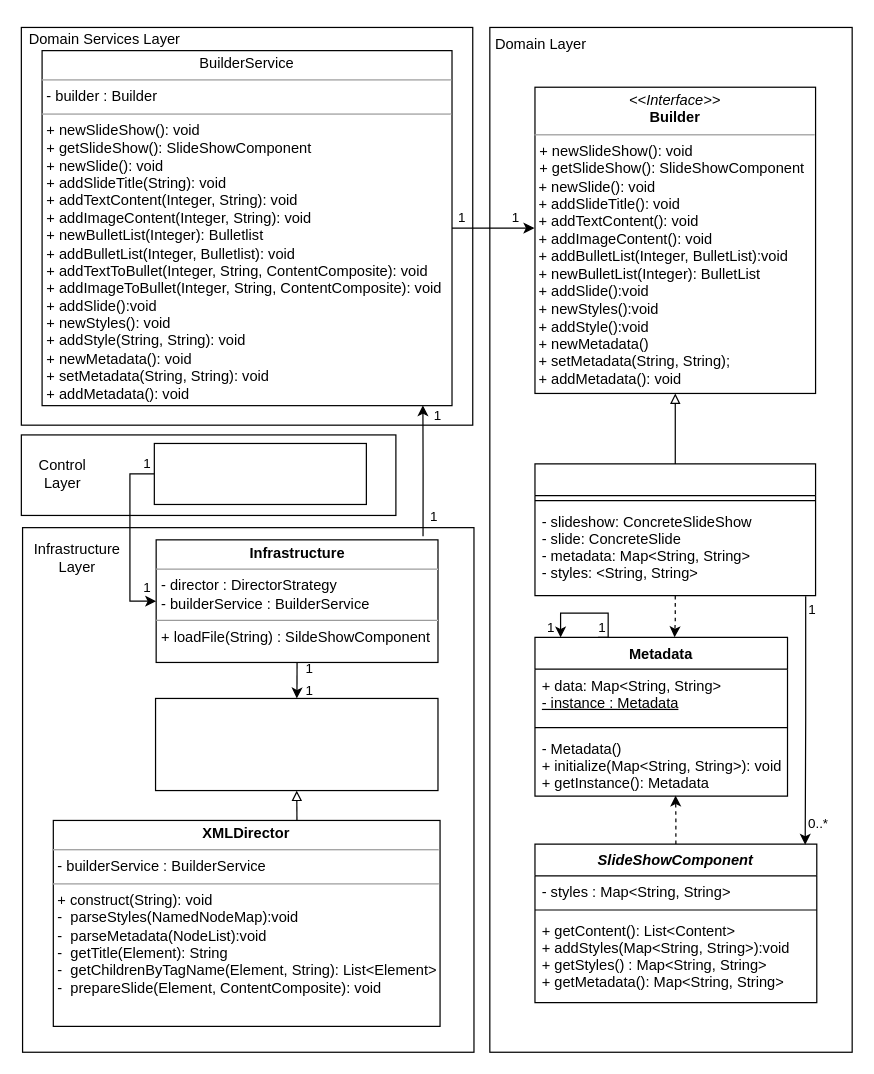
This 874x1074 diagram has some shape labels left out. Each missing label, with the box of its shape:
<<Interface>> DirectorStrategy + construct(BulderService, String): void: (154, 697, 438, 791)
Controller: (153, 442, 366, 504)
SlideShowComponentBuilder: (534, 463, 816, 596)
